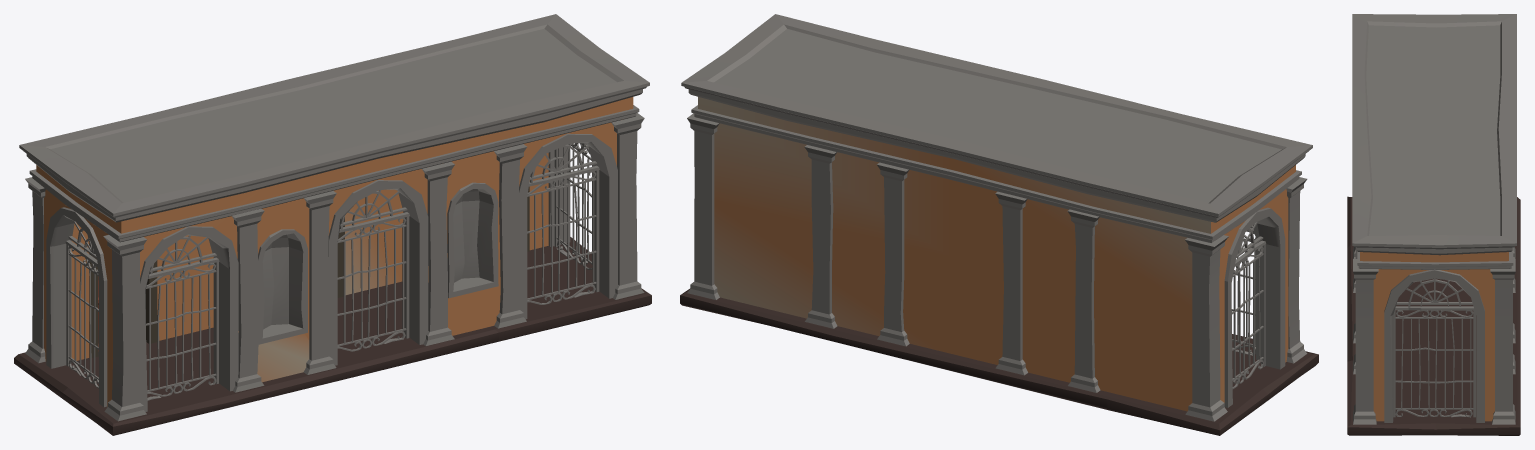
File: SM_Bld_Cuba_Hall_Room_04.glb
3 views of the same model, side by side, from view 1: azimuth 30°, elevation 25°; view 2: azimuth 150°, elevation 25°; view 3: azimuth 270°, elevation 25° (orthographic). The views are drawn at different scales.
Parts seen in each view (by area): view 1: SM_Bld_Cuba_Hall_Room_04; view 2: SM_Bld_Cuba_Hall_Room_04; view 3: SM_Bld_Cuba_Hall_Room_04.
Boxes of the visible parts, x1,y1,x2,y2 form: SM_Bld_Cuba_Hall_Room_04: (14,14,651,435); SM_Bld_Cuba_Hall_Room_04: (680,14,1318,435); SM_Bld_Cuba_Hall_Room_04: (1347,14,1520,435).
Size of the model in its own units: 0.1132 by 0.0442 by 0.0359.
